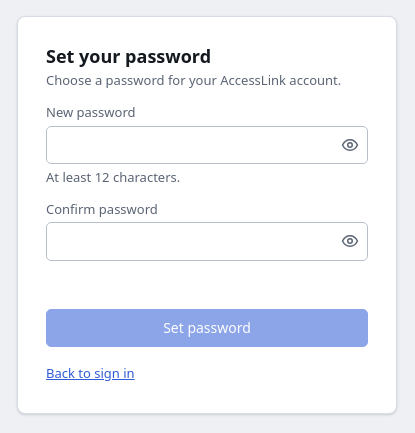
redeeming an invitation or reset link › sets the password and sends them to sign in rather than signing them in
Type "a-long-enough-password" into the password field labelled "New password" at (207, 145), box [46, 126, 368, 164]
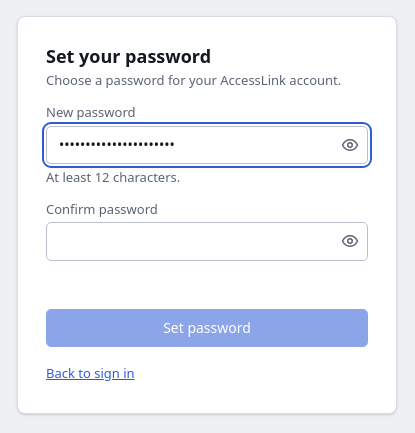
Type "a-long-enough-password" into the password field labelled "Confirm password" at (207, 241), box [46, 222, 368, 261]
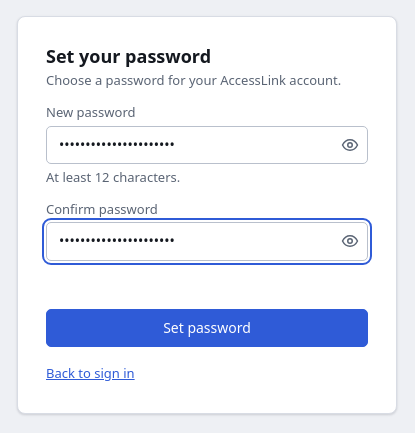
Click the button "Set password" at (207, 328), box [46, 309, 368, 347]
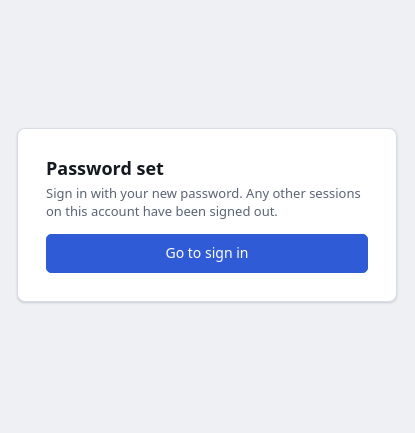
Expected: the heading "Password set" is shown, [46, 156, 164, 180]
Expected: the text "signed out" is shown, [46, 184, 361, 220]
